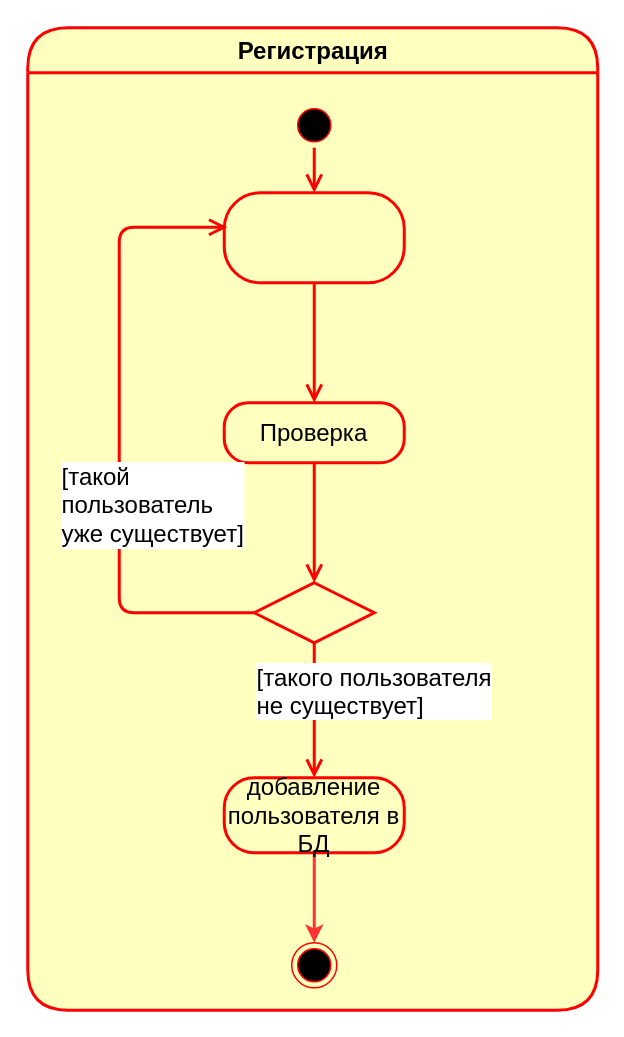
The diagram is 624 pixels wide and 1037 high, and some of its shapes have lost their labels. The shapes that lost their labels are listed below. From the top down, each one's box as (x1, y1, x2, y2) in pixels, then its label:
(222, 190, 405, 284): ввод имени, почты и пароля
(252, 580, 375, 644): Condition
